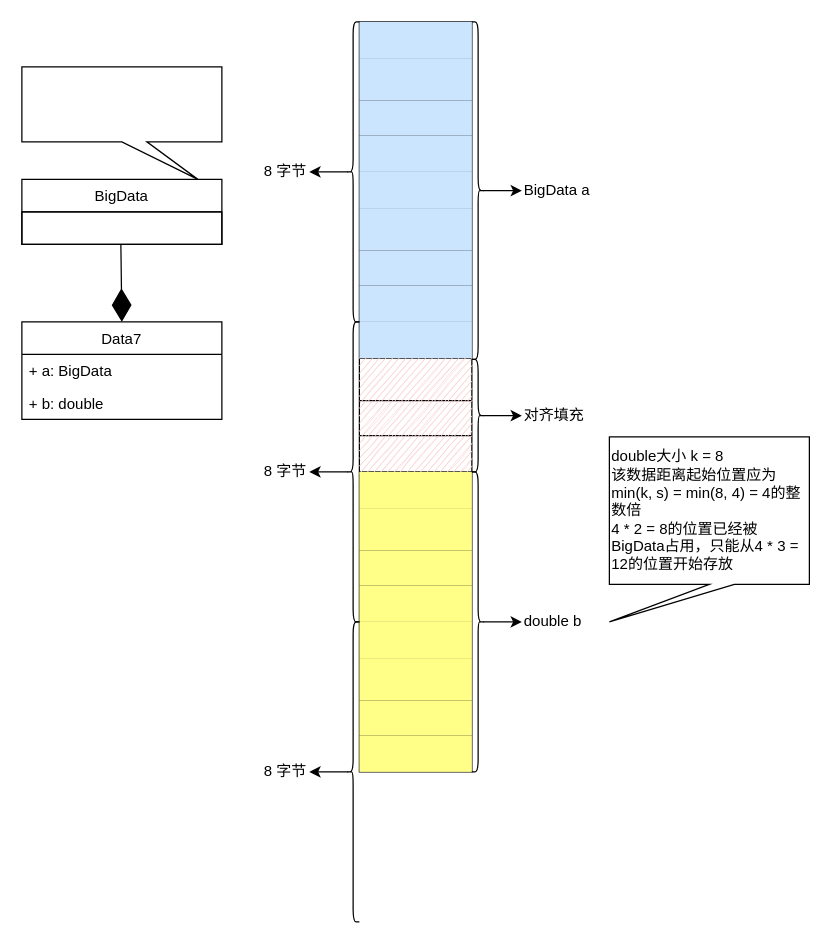
Some shapes in this 831 by 944 pixel diagram are drawn without their labels. Each missing label, with the centre of its shape:
+ array: char[9]: [121,227]
编译器对齐系数 n = 4 最长数据类型长度 m = 8 对齐单位s = min(m, n) = 4: [121,122]
